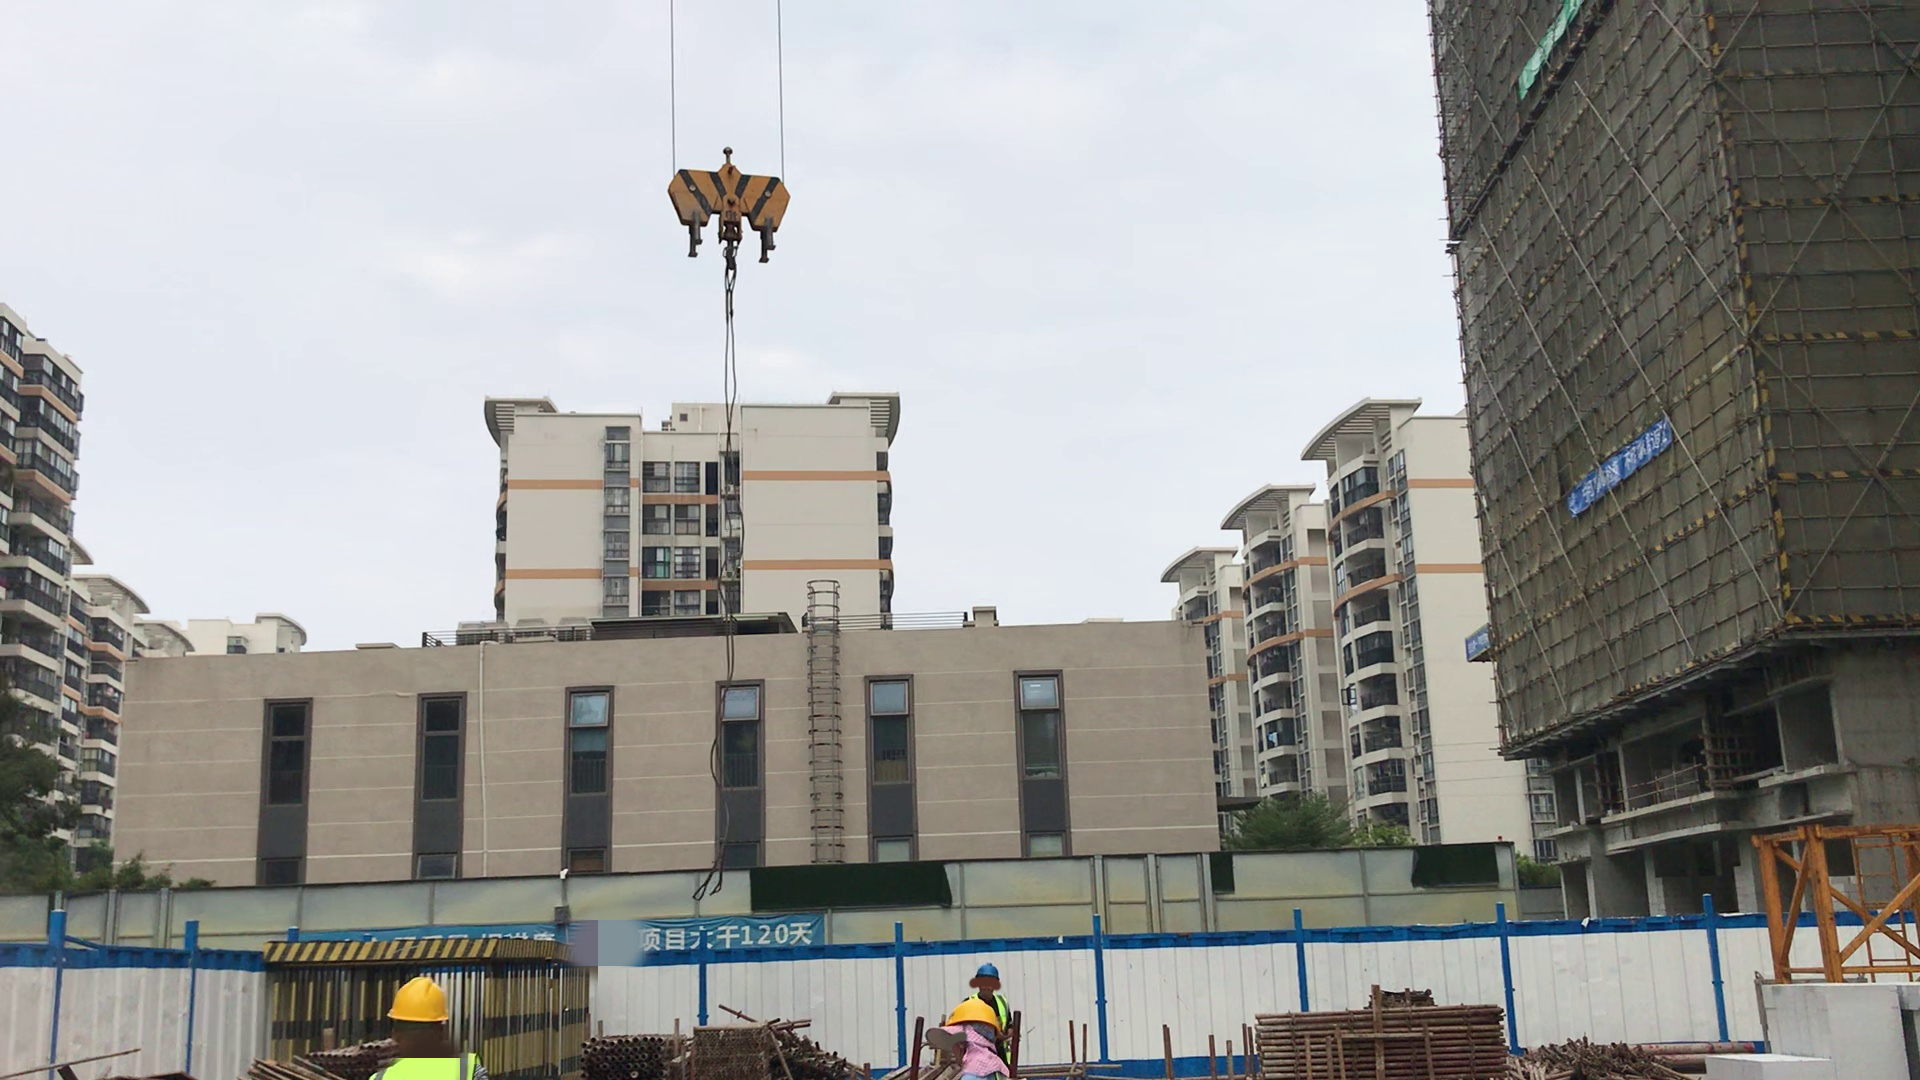brick: (1681, 966, 1920, 1080)
helmet: (391, 977, 460, 1031), (955, 999, 1008, 1035), (971, 958, 1007, 984)
hook: (632, 128, 795, 283)
person: (350, 975, 510, 1080), (927, 1007, 1007, 1080), (963, 960, 1018, 1030)
scaffold: (1254, 1000, 1505, 1080), (583, 1027, 680, 1080)
slogan: (627, 907, 827, 949)
vest: (355, 1046, 487, 1080)
